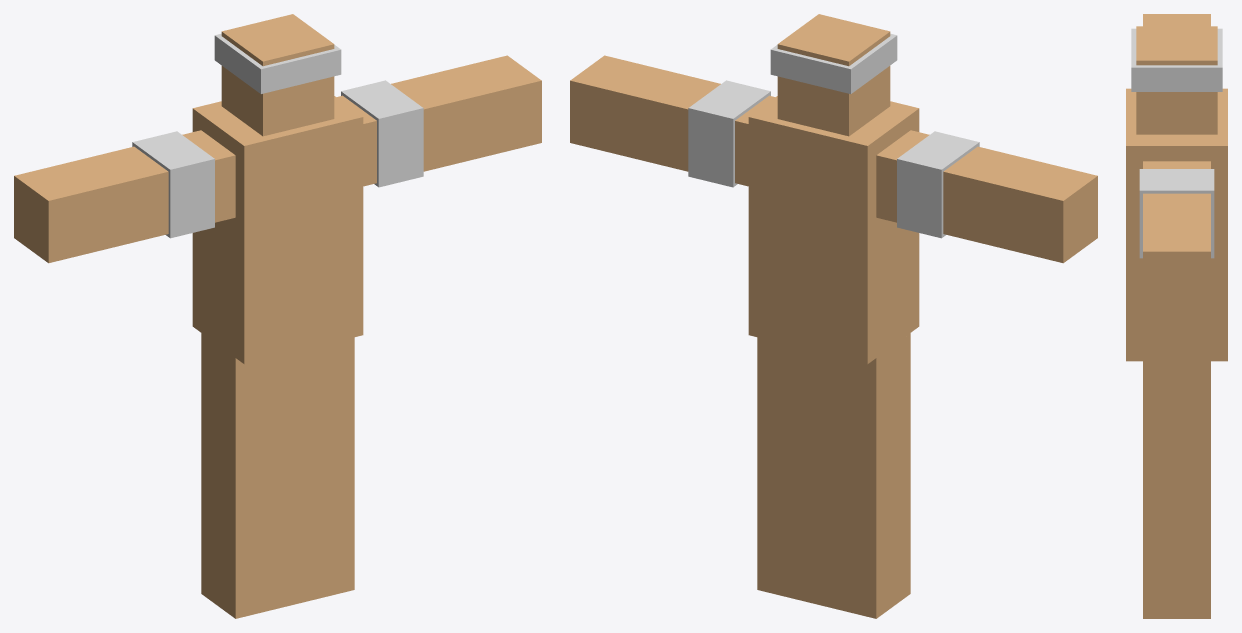
Rendered from man_blockout_v01.fbx.
3 renders of one model, left to right at view 1: azimuth 30°, elevation 25°; view 2: azimuth 150°, elevation 25°; view 3: azimuth 270°, elevation 25°, orthographic.
Parts seen in each view (by area): view 1: Body, Leg_R, Arm_R, Leg_L, Arm_L, Head, Armband_L, Armband_R, HeadBand; view 2: Body, Leg_R, Arm_R, Leg_L, Arm_L, Head, Armband_L, Armband_R, HeadBand; view 3: Leg_L, Body, Arm_L, Head, HeadBand, Armband_L, Arm_R.
Part boxes in pixels (<box>): Body: <box>192,96,363,364</box>; Leg_R: <box>201,333,295,618</box>; Arm_R: <box>14,130,235,263</box>; Leg_L: <box>295,337,354,604</box>; Arm_L: <box>336,55,541,186</box>; Head: <box>221,14,334,136</box>; Armband_L: <box>341,80,423,187</box>; Armband_R: <box>132,131,214,238</box>; HeadBand: <box>214,33,341,93</box>; Body: <box>748,96,919,364</box>; Leg_R: <box>816,333,910,618</box>; Arm_R: <box>876,130,1097,263</box>; Leg_L: <box>757,337,816,604</box>; Arm_L: <box>570,55,775,186</box>; Head: <box>777,14,890,136</box>; Armband_L: <box>688,80,770,187</box>; Armband_R: <box>897,131,979,238</box>; HeadBand: <box>770,33,897,93</box>; Leg_L: <box>1143,361,1210,618</box>; Body: <box>1126,88,1227,361</box>; Arm_L: <box>1143,161,1210,312</box>; Head: <box>1136,26,1217,134</box>; HeadBand: <box>1131,28,1222,91</box>; Armband_L: <box>1139,169,1214,258</box>; Arm_R: <box>1143,14,1210,26</box>.
Size of the model in its own units: 166 by 30 by 178.
